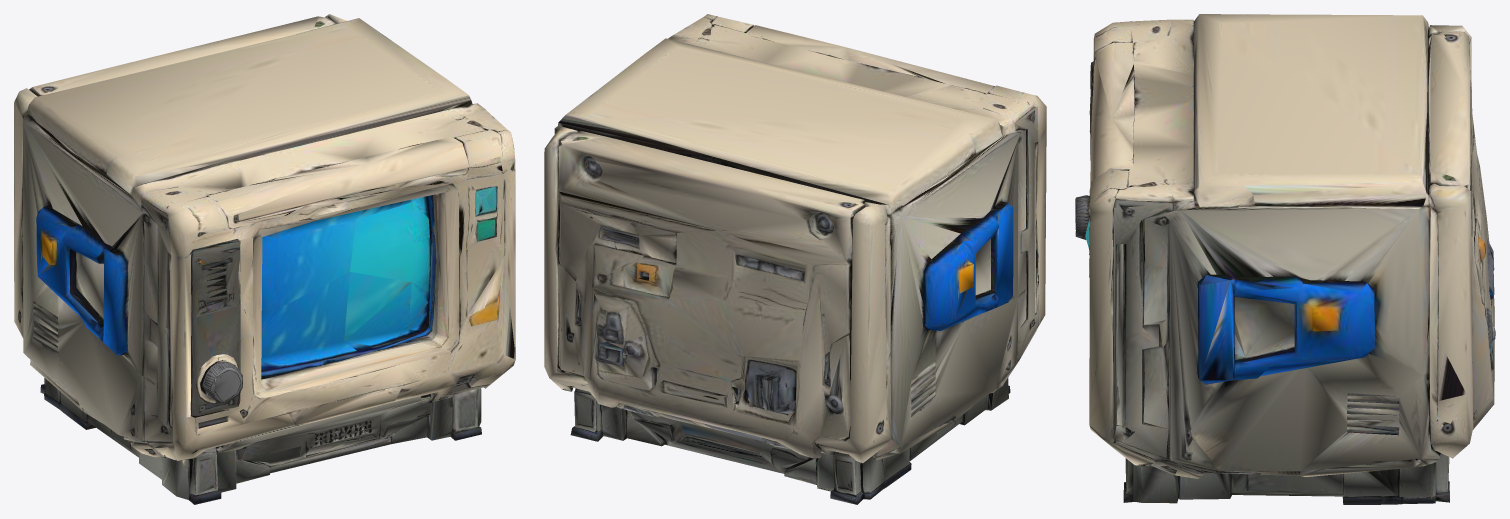
File: NyxCRT.glb
The picture shows the model from 3 angles, left to right: view 1: azimuth 30°, elevation 25°; view 2: azimuth 150°, elevation 25°; view 3: azimuth 270°, elevation 25°; orthographic projection. The views are drawn at different scales.
Parts seen in each view (by area): view 1: Mesh_0; view 2: Mesh_0; view 3: Mesh_0.
Boxes of the visible parts, x1,y1,x2,y2 form: Mesh_0: (14,14,515,504); Mesh_0: (544,14,1046,504); Mesh_0: (1075,14,1495,504).
Size of the model in its own units: 1.9 by 1.43 by 1.64.
1 material, 1 textured.
